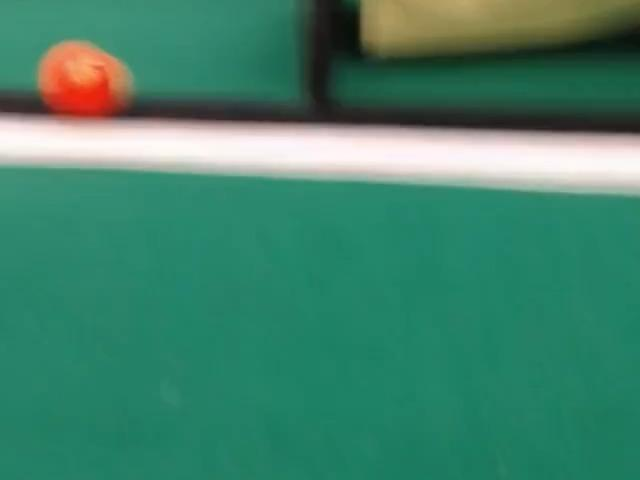Ball: (37, 41, 132, 117)
